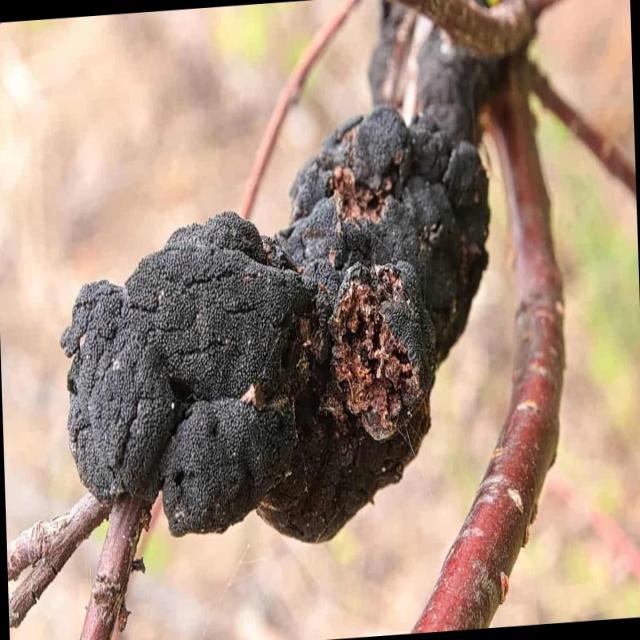Black_knot: (59, 101, 492, 545)
